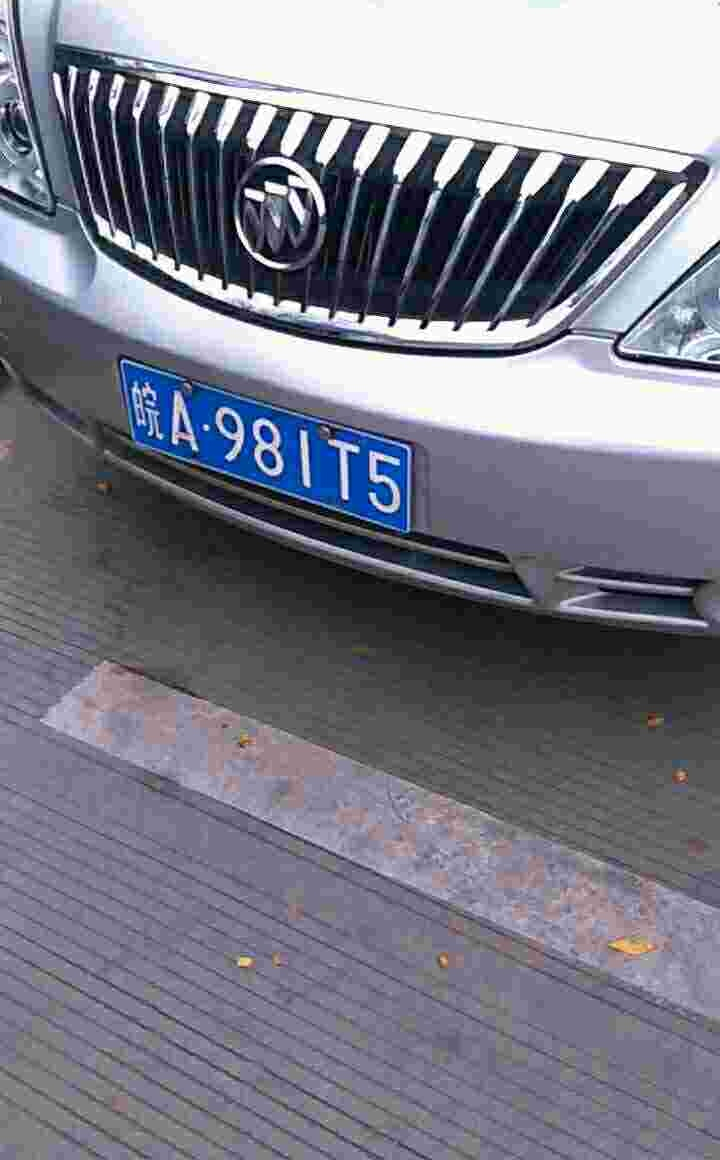license_plate: (117, 357, 421, 542)
